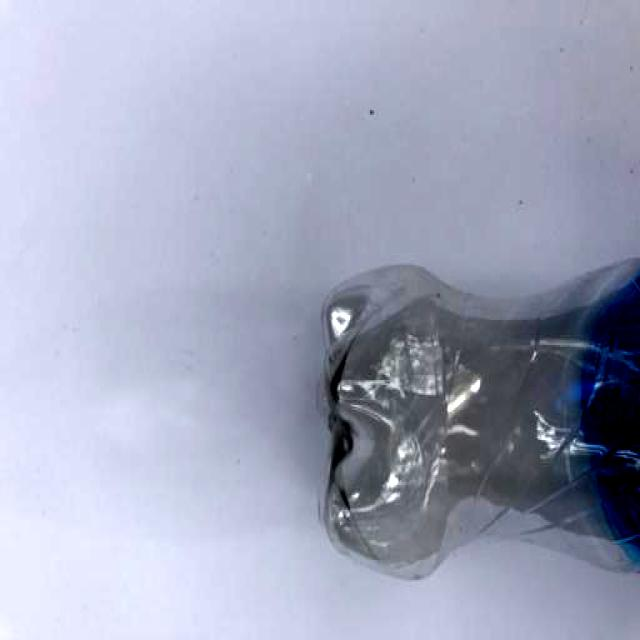Plastic: (317, 250, 640, 587)
